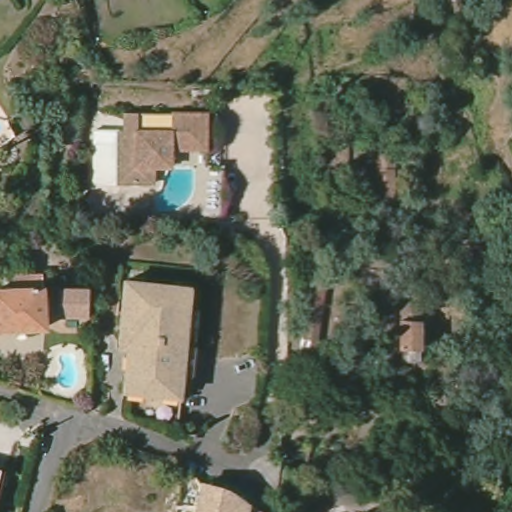pool: (148, 165, 198, 218), (51, 351, 85, 391)
